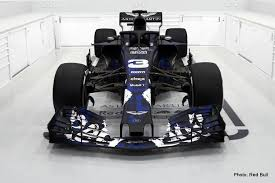FormulaOneCar: (44, 1, 228, 155)
